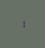one: (19, 20, 24, 27)
